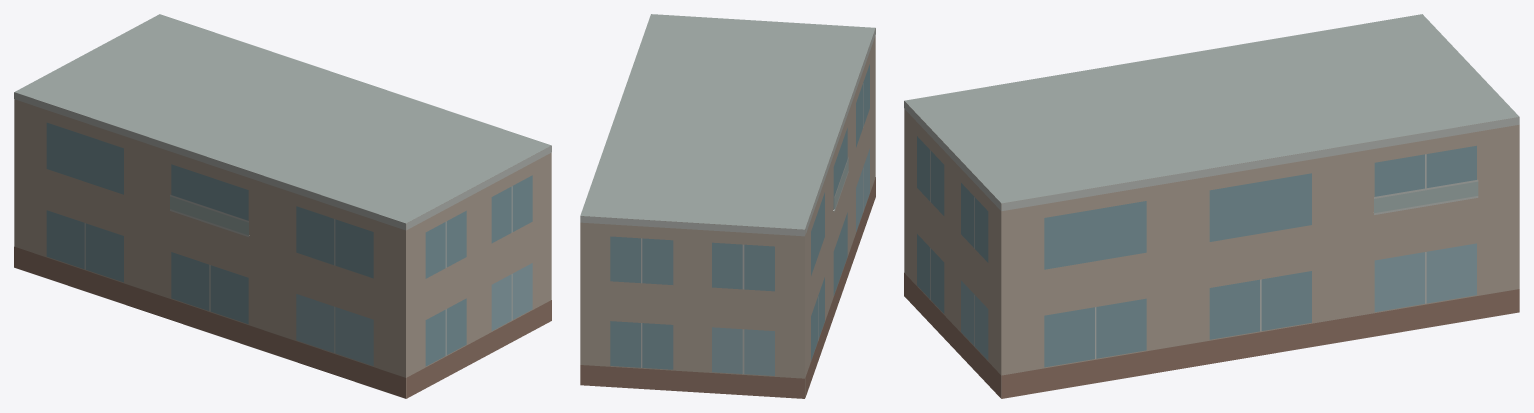
File: survey-upis-32698473.glb
3 renders of one model, left to right at view 1: azimuth 30°, elevation 25°; view 2: azimuth 150°, elevation 25°; view 3: azimuth 270°, elevation 25°, orthographic. The views are drawn at different scales.
Parts seen in each view (by area): view 1: survey-upis-32698473.tmp; view 2: survey-upis-32698473.tmp; view 3: survey-upis-32698473.tmp.
Boxes of the visible parts, <box> form: survey-upis-32698473.tmp: <box>14,14,551,398</box>; survey-upis-32698473.tmp: <box>580,14,875,398</box>; survey-upis-32698473.tmp: <box>904,14,1519,398</box>.
Size of the model in its own units: 12.7 by 6.1 by 17.42.
